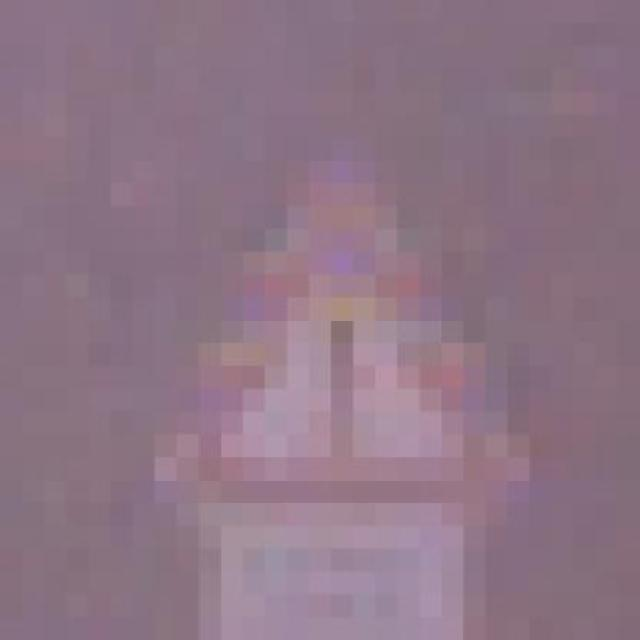Attention Please-: (122, 126, 563, 539)
